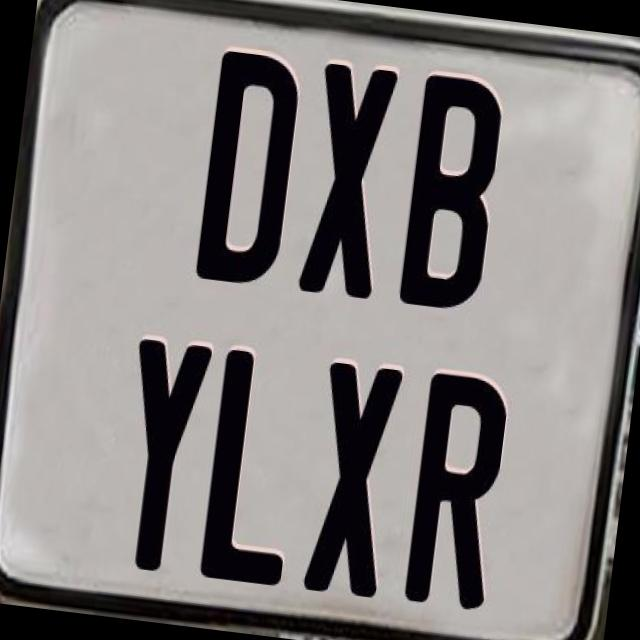B: (393, 68, 501, 314)
D: (190, 49, 300, 296)
L: (198, 347, 308, 589)
R: (403, 369, 513, 616)
X: (297, 361, 401, 599), (294, 63, 396, 304)
Y: (108, 338, 210, 582)
